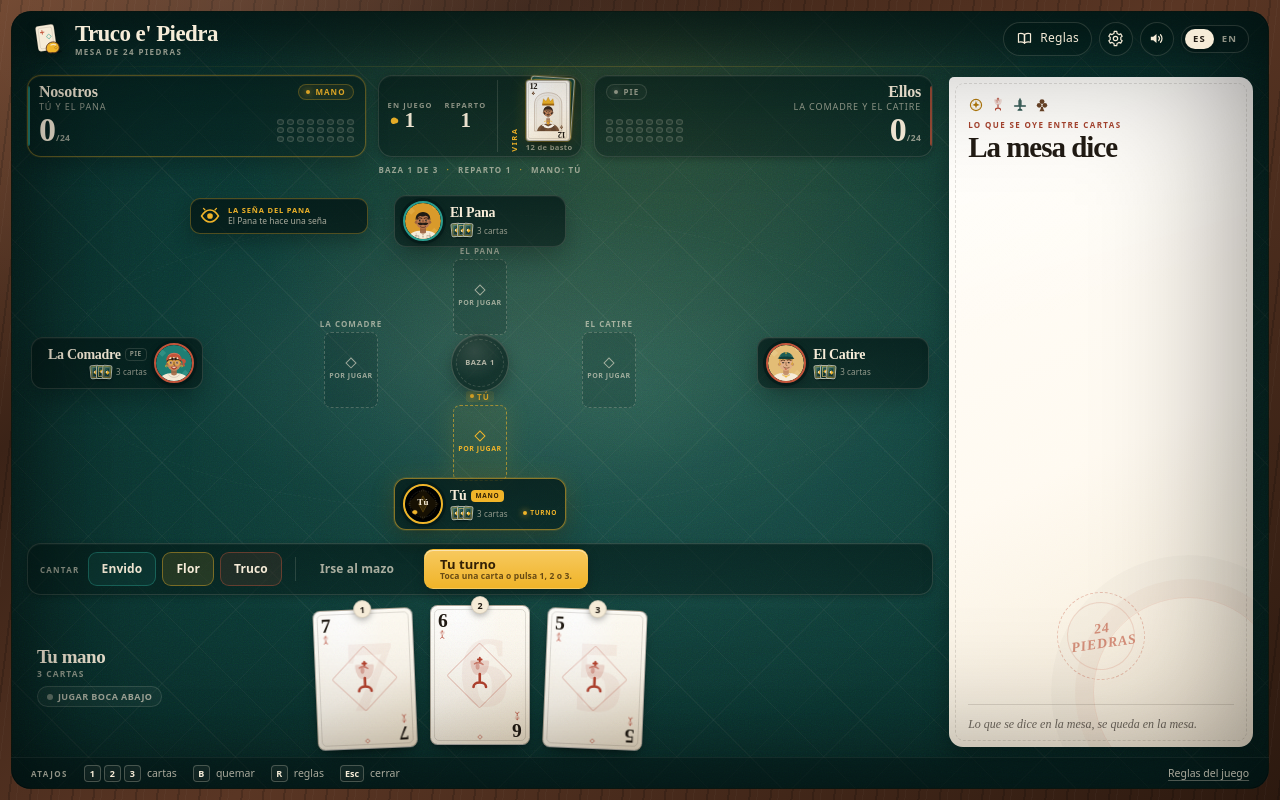
Scenario: the flor and prive calls › declares a flor with a bubble, a log line and a pending chip
The image size is (1280, 800).
Step 1. Click the button with aria-label "Cantar flor" → point(188, 569), box [162, 552, 214, 586]
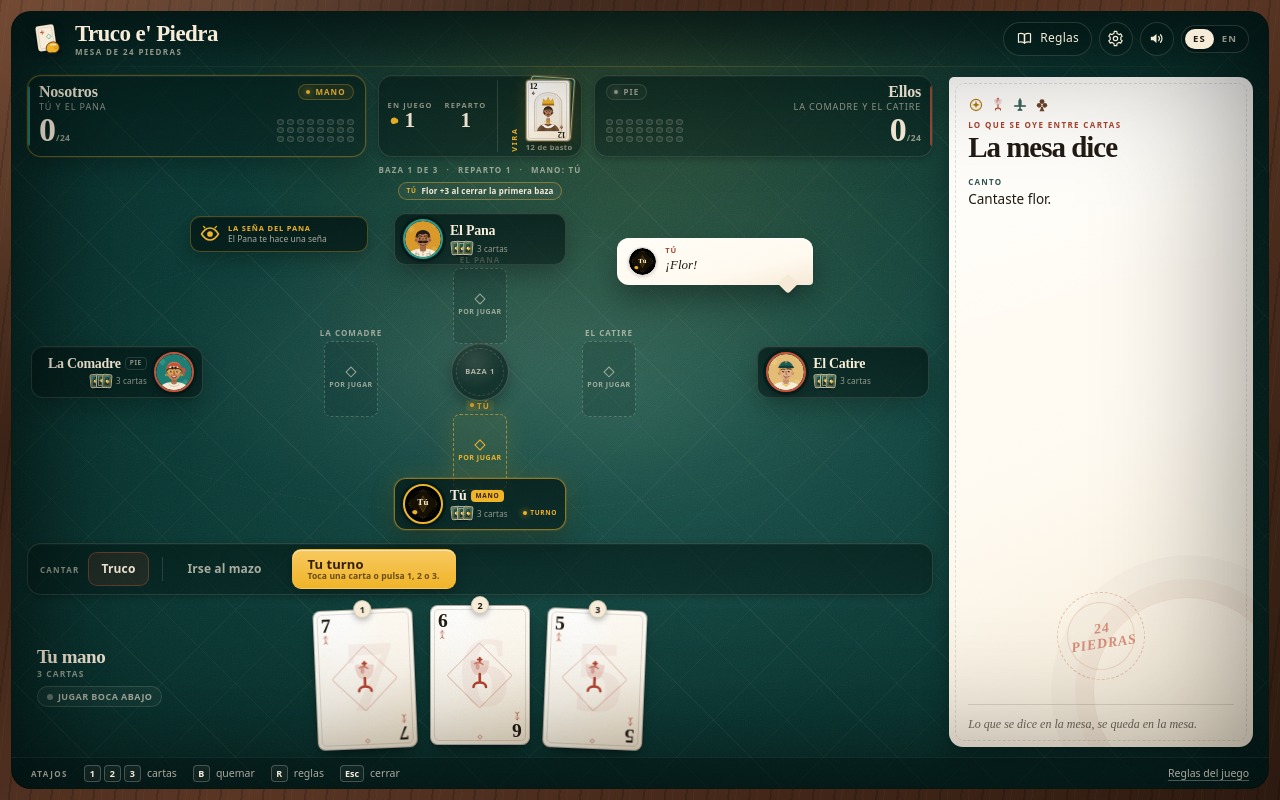
Expected: the text "¡Flor!" is shown, [665, 257, 697, 273]
Expected: the text "Cantaste flor." is shown, [968, 190, 1051, 208]
Expected: the text "Flor +3 al cerrar la primera baza" is shown, [422, 186, 553, 196]
